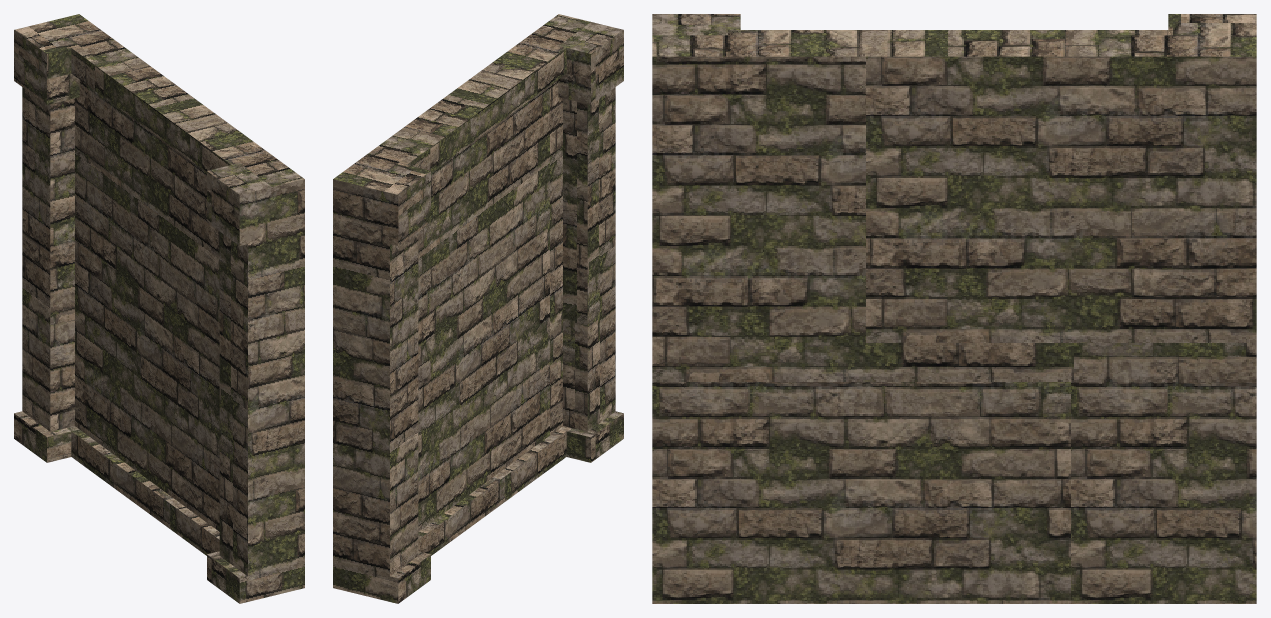
File: wall.gltf
3 views of the same model, side by side, from view 1: azimuth 30°, elevation 25°; view 2: azimuth 150°, elevation 25°; view 3: azimuth 270°, elevation 25° (orthographic). The views are drawn at different scales.
Parts seen in each view (by area): view 1: mesh; view 2: mesh; view 3: mesh.
Part boxes in pixels (box(x1,y1,x2,y2)): mesh: box(14, 14, 304, 603); mesh: box(333, 14, 623, 603); mesh: box(652, 14, 1256, 603).
Bounding box in the file's own units: 0.5 × 3 × 3.
1 material, 1 textured.
